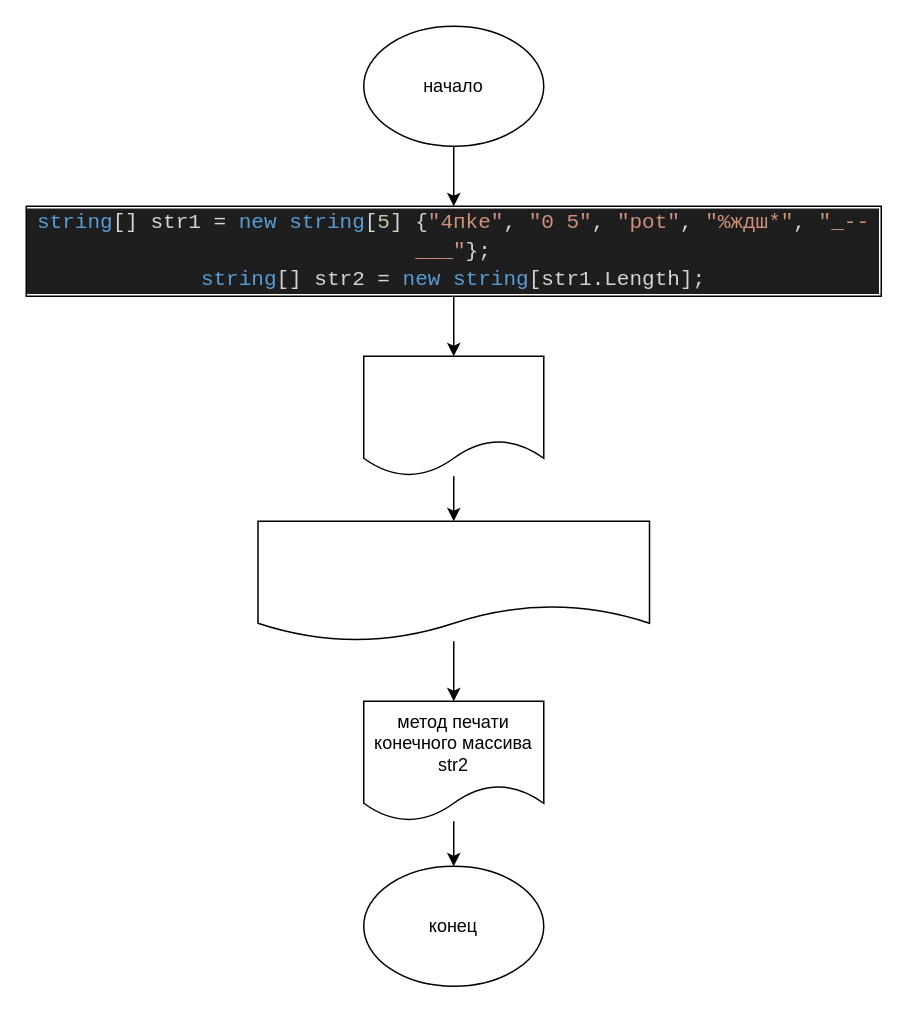
This 908x1013 diagram has some shape labels left out. The centre of each missing label's shape, as x and y in pixels:
"медод заполнения массива str2 str2.lenght < 3" goes at point 453,580.
"метод печати массива str1" goes at point 453,415.
